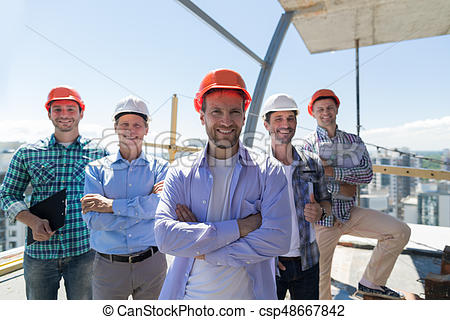casco: (193, 68, 252, 114), (110, 95, 153, 123), (44, 86, 87, 113), (260, 93, 300, 120), (307, 88, 340, 118)
